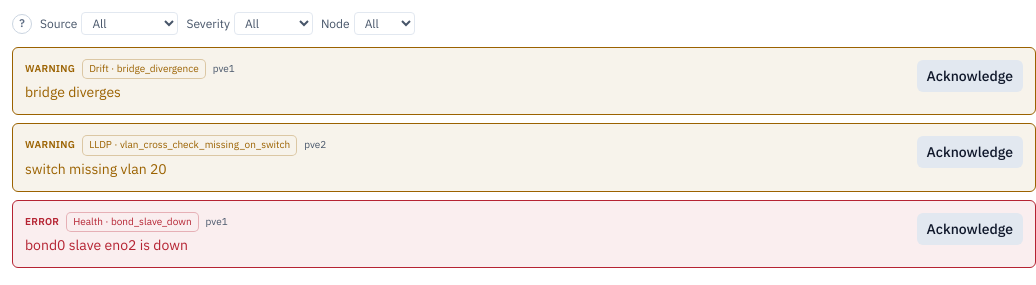
Test: FindingsStreamPanel › filters by node
Expected: the text "bridge diverges" is shown, [25,83,121,101]
Select "pve2" in the dropdown named "Filter by node": (384,24) [354,12,415,35]
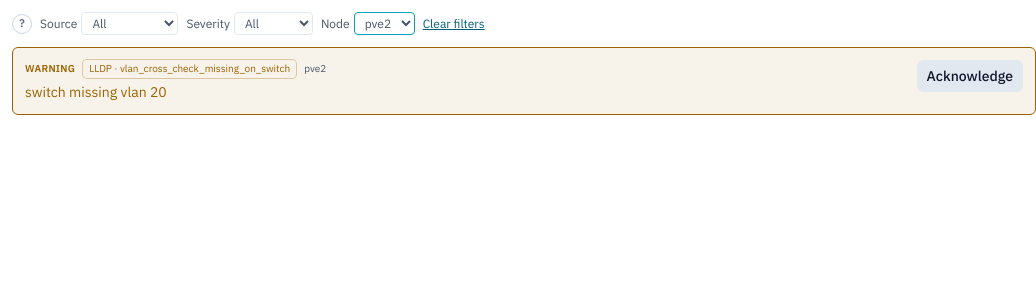
Expected: the text "switch missing vlan 20" is shown, [25,83,167,101]
Result: the text "bridge diverges" is gone
